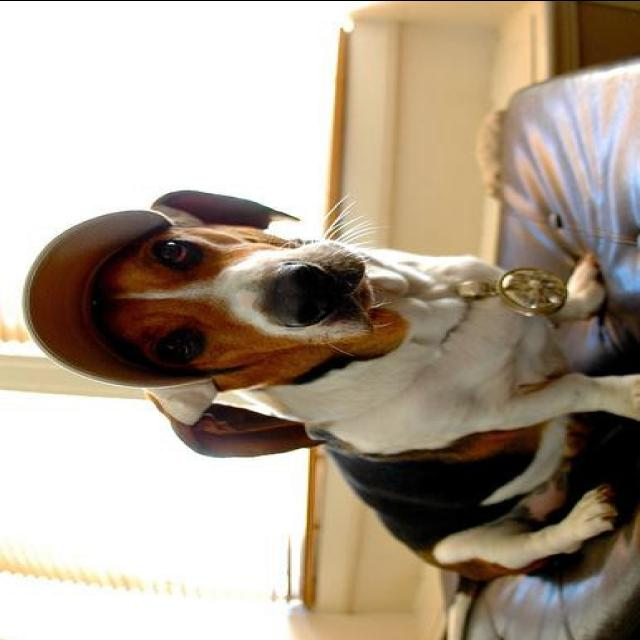beagle: (20, 188, 638, 581)
